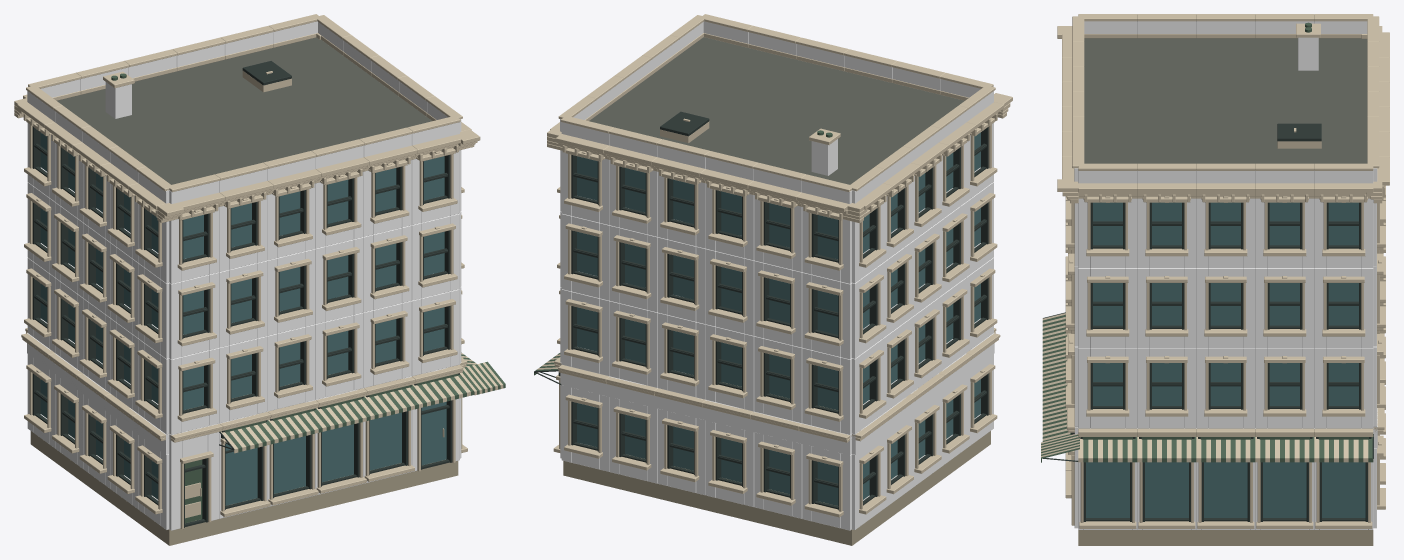
Rendered from corner-deli.glb.
3 views of the same model, side by side, from view 1: azimuth 30°, elevation 25°; view 2: azimuth 150°, elevation 25°; view 3: azimuth 270°, elevation 25° (orthographic). The views are drawn at different scales.
Parts seen in each view (by area): view 1: Connected roof.012, Foundation.012, nyc-main/north/0/833/wall.008, nyc-main/north/1/833/wall.008, nyc-main/north/2/833/wall.008, nyc-main/north/2/7500/wall.008, nyc-main/north/1/7500/wall.008, nyc-main/north/1/5833/wall.008, nyc-main/north/1/4167/wall.008, nyc-main/north/2/5833/wall.008, nyc-main/north/2/9167/wall.008, nyc-main/north/2/4167/wall.008 (+128 smaller); view 2: Connected roof.012, Foundation.012, nyc-main/south/2/833/wall.008, nyc-main/south/1/833/wall.008, nyc-main/south/0/833/wall.008, nyc-main/south/2/2500/wall.008, nyc-main/south/1/2500/wall.008, nyc-main/south/1/4167/wall.008, nyc-main/south/2/4167/wall.008, nyc-main/south/0/2500/wall.008, nyc-main/south/0/4167/wall.008, nyc-main/south/2/9167/wall.008 (+126 smaller); view 3: Connected roof.012, Foundation.012, nyc-main/east/1/1000/wall.010, nyc-main/east/1/3000/wall.010, nyc-main/east/1/5000/wall.010, nyc-main/east/1/7000/wall.010, nyc-main/east/1/9000/wall.010, nyc-main/east/2/1000/wall.010, nyc-main/east/2/3000/wall.010, nyc-main/east/2/5000/wall.010, nyc-main/east/2/7000/wall.010, nyc-main/east/2/9000/wall.010 (+119 smaller).
Boxes of the visible parts, left/top/right/bottom form: Connected roof.012: left=57, top=37, right=432, bottom=184; Foundation.012: left=30, top=374, right=458, bottom=545; nyc-main/north/0/833/wall.008: left=169, top=432, right=219, bottom=530; nyc-main/north/1/833/wall.008: left=169, top=348, right=219, bottom=434; nyc-main/north/2/833/wall.008: left=169, top=272, right=219, bottom=359; nyc-main/north/2/7500/wall.008: left=363, top=225, right=411, bottom=312; nyc-main/north/1/7500/wall.008: left=363, top=301, right=411, bottom=387; nyc-main/north/1/5833/wall.008: left=315, top=313, right=363, bottom=399; nyc-main/north/1/4167/wall.008: left=267, top=324, right=315, bottom=411; nyc-main/north/2/5833/wall.008: left=315, top=237, right=363, bottom=323; nyc-main/north/2/9167/wall.008: left=411, top=213, right=459, bottom=300; nyc-main/north/2/4167/wall.008: left=267, top=249, right=315, bottom=335; Connected roof.012: left=589, top=37, right=964, bottom=184; Foundation.012: left=563, top=382, right=990, bottom=545; nyc-main/south/2/833/wall.008: left=802, top=272, right=851, bottom=359; nyc-main/south/1/833/wall.008: left=802, top=348, right=851, bottom=434; nyc-main/south/0/833/wall.008: left=802, top=444, right=851, bottom=530; nyc-main/south/2/2500/wall.008: left=754, top=260, right=802, bottom=347; nyc-main/south/1/2500/wall.008: left=754, top=336, right=802, bottom=423; nyc-main/south/1/4167/wall.008: left=706, top=324, right=754, bottom=411; nyc-main/south/2/4167/wall.008: left=706, top=249, right=754, bottom=335; nyc-main/south/0/2500/wall.008: left=754, top=432, right=802, bottom=518; nyc-main/south/0/4167/wall.008: left=706, top=420, right=754, bottom=507; nyc-main/south/2/9167/wall.008: left=561, top=214, right=609, bottom=300; Connected roof.012: left=1084, top=38, right=1367, bottom=163; Foundation.012: left=1078, top=530, right=1373, bottom=545; nyc-main/east/1/1000/wall.010: left=1314, top=348, right=1373, bottom=428; nyc-main/east/1/3000/wall.010: left=1255, top=348, right=1314, bottom=428; nyc-main/east/1/5000/wall.010: left=1196, top=348, right=1255, bottom=428; nyc-main/east/1/7000/wall.010: left=1137, top=348, right=1196, bottom=428; nyc-main/east/1/9000/wall.010: left=1078, top=348, right=1137, bottom=428; nyc-main/east/2/1000/wall.010: left=1314, top=268, right=1373, bottom=348; nyc-main/east/2/3000/wall.010: left=1255, top=268, right=1314, bottom=348; nyc-main/east/2/5000/wall.010: left=1196, top=268, right=1255, bottom=348; nyc-main/east/2/7000/wall.010: left=1137, top=268, right=1196, bottom=348; nyc-main/east/2/9000/wall.010: left=1078, top=268, right=1137, bottom=348.
Bounding box in the file's own units: 13.81 × 14.96 × 11.82.
